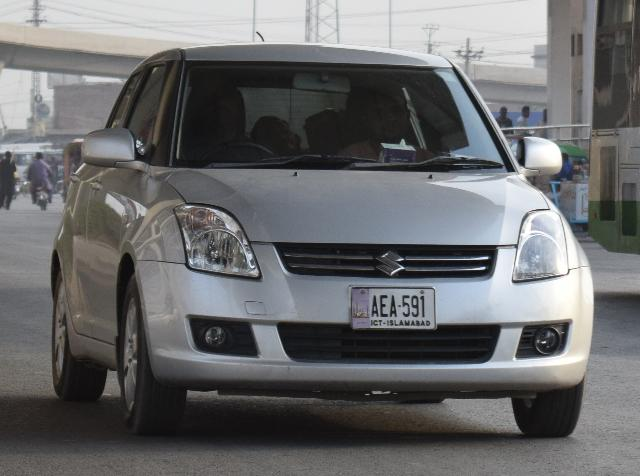plate: (352, 286, 434, 330)
